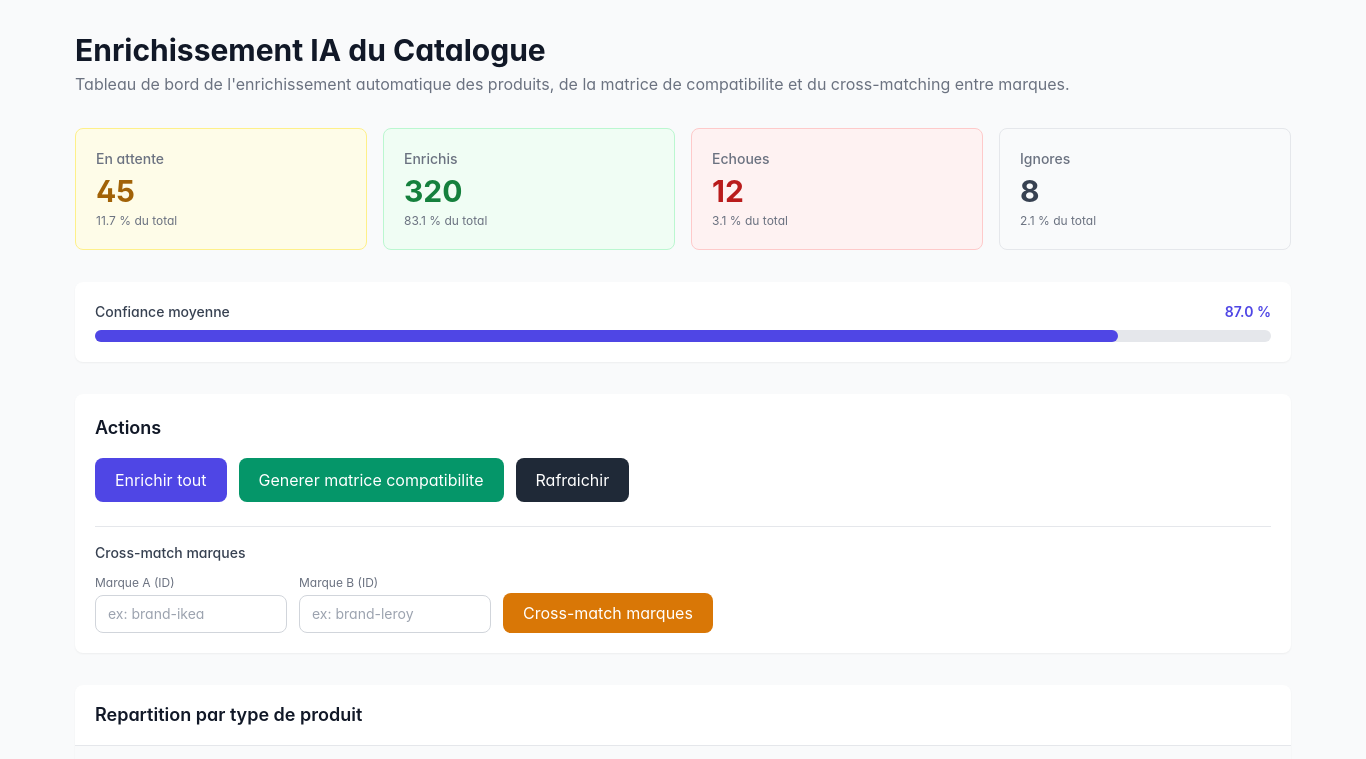
it: EnrichmentDashboard › Action Buttons › should dismiss message when dismiss button is clicked
Click the button "Enrichir tout" at (161, 480), box [95,458,226,502]
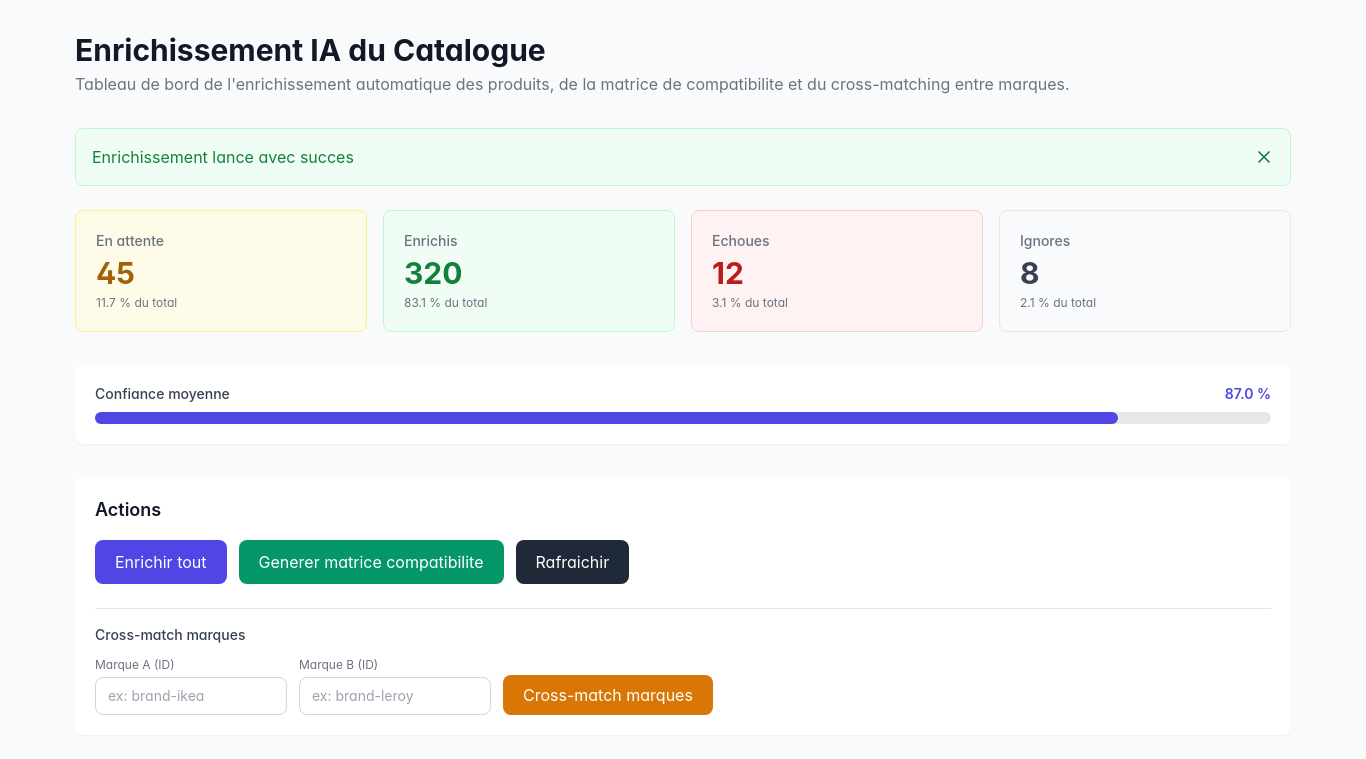
Expected: the text "Enrichissement lance avec succes" is shown, [92,145,354,169]
Click the button named "dismiss message" at (1264, 157), box [1254,147,1274,167]
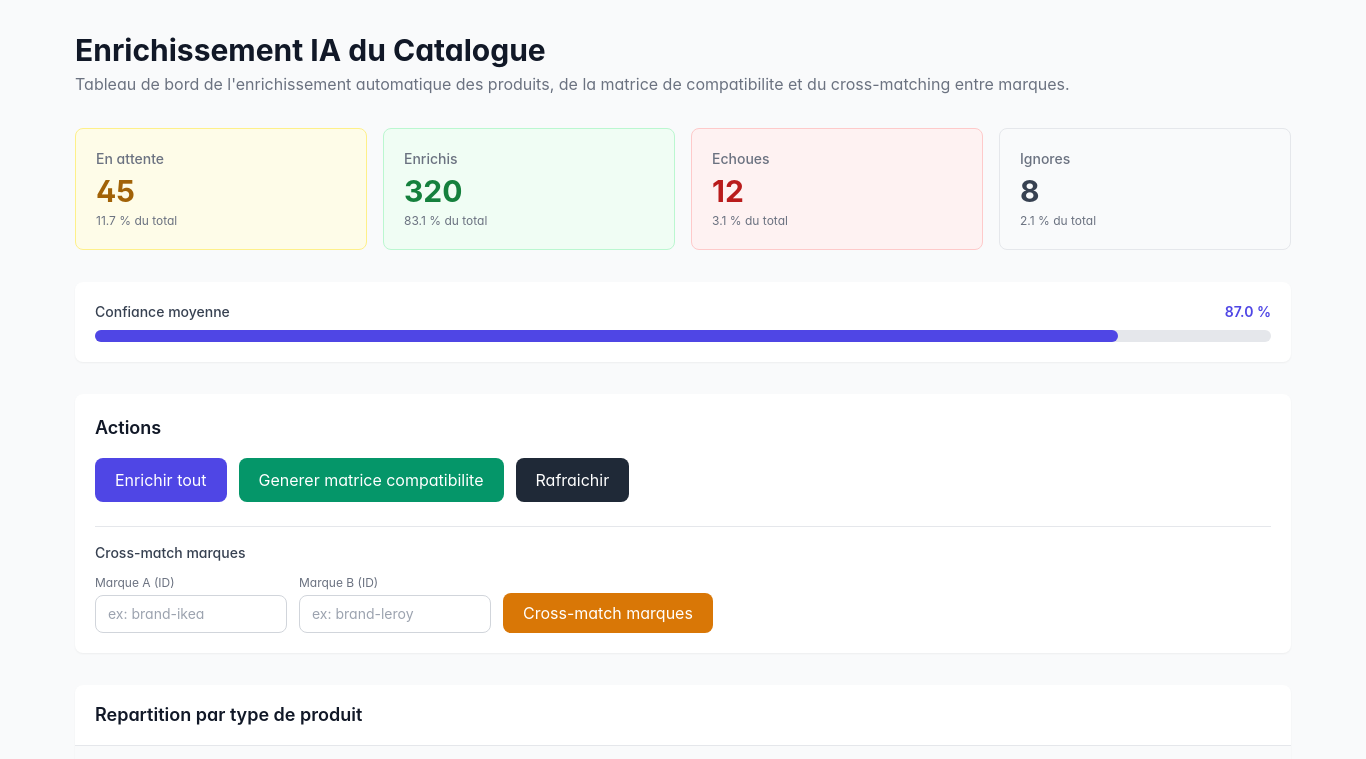
Expected: the text "Enrichissement lance avec succes" is gone
